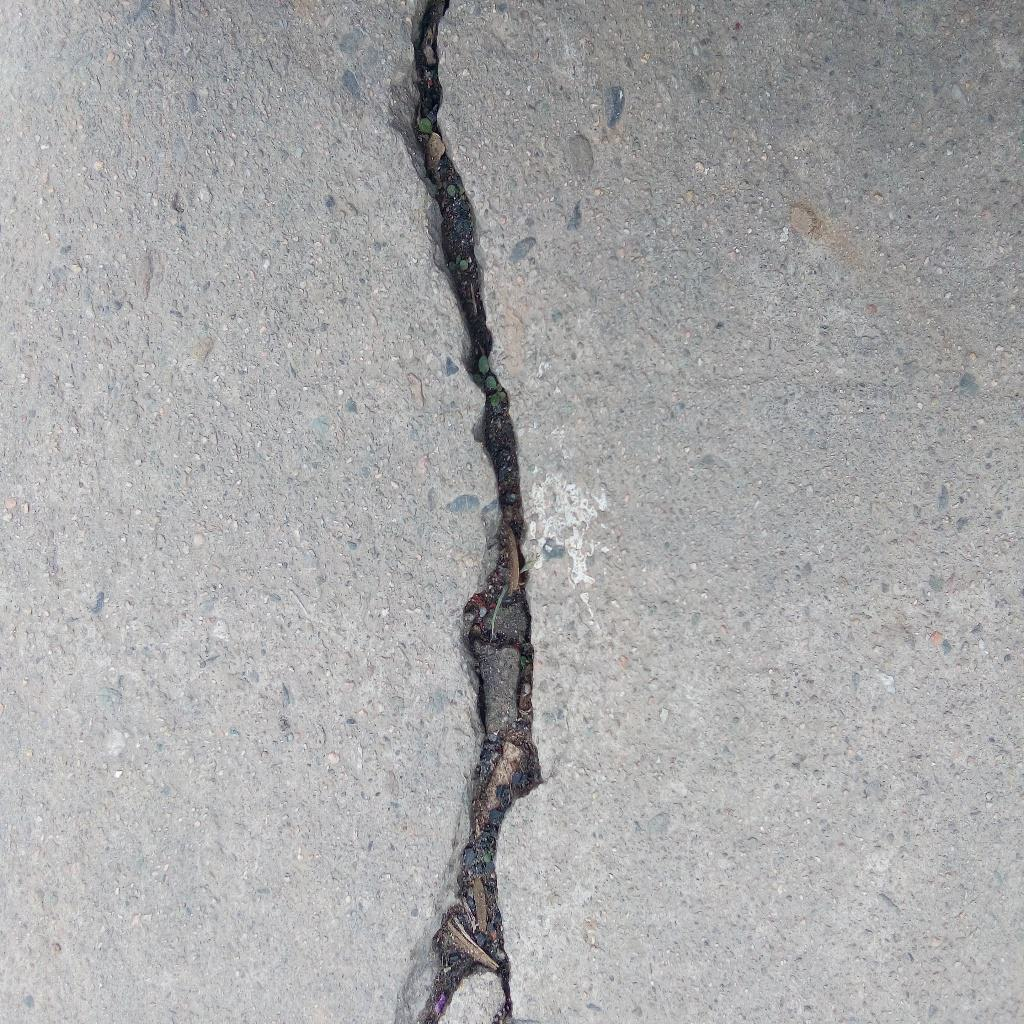Crack: (410, 1, 549, 1024)
